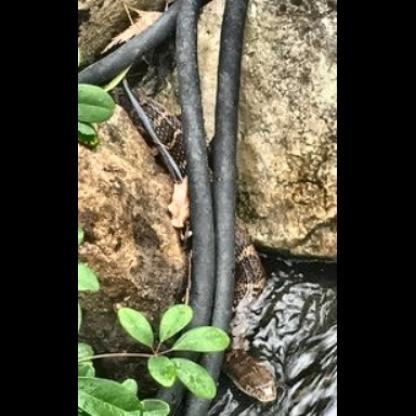Snake: (121, 79, 282, 406)
